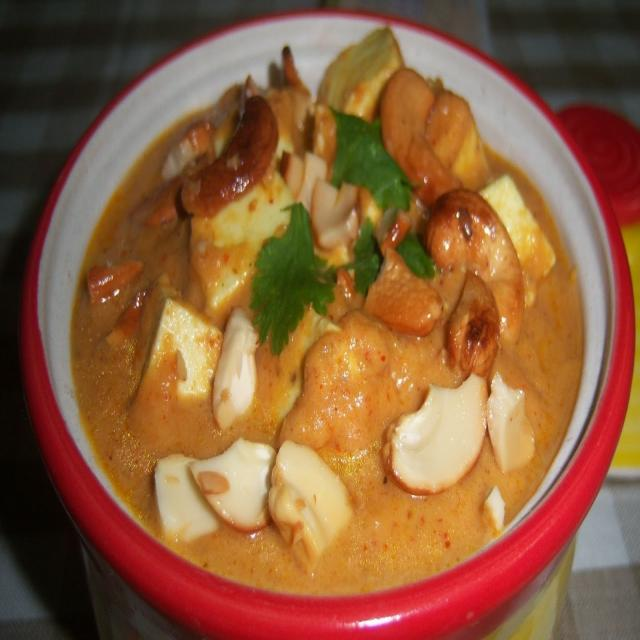ShahiPaneer: (69, 28, 584, 592)
